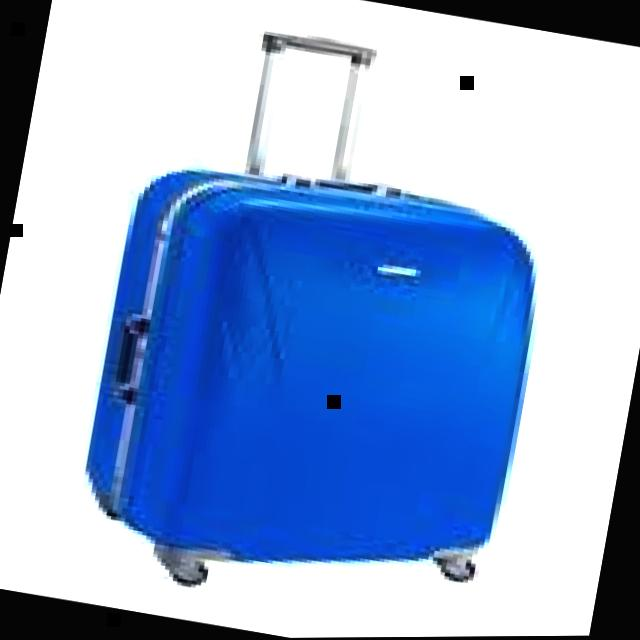luggage: (59, 134, 558, 610)
